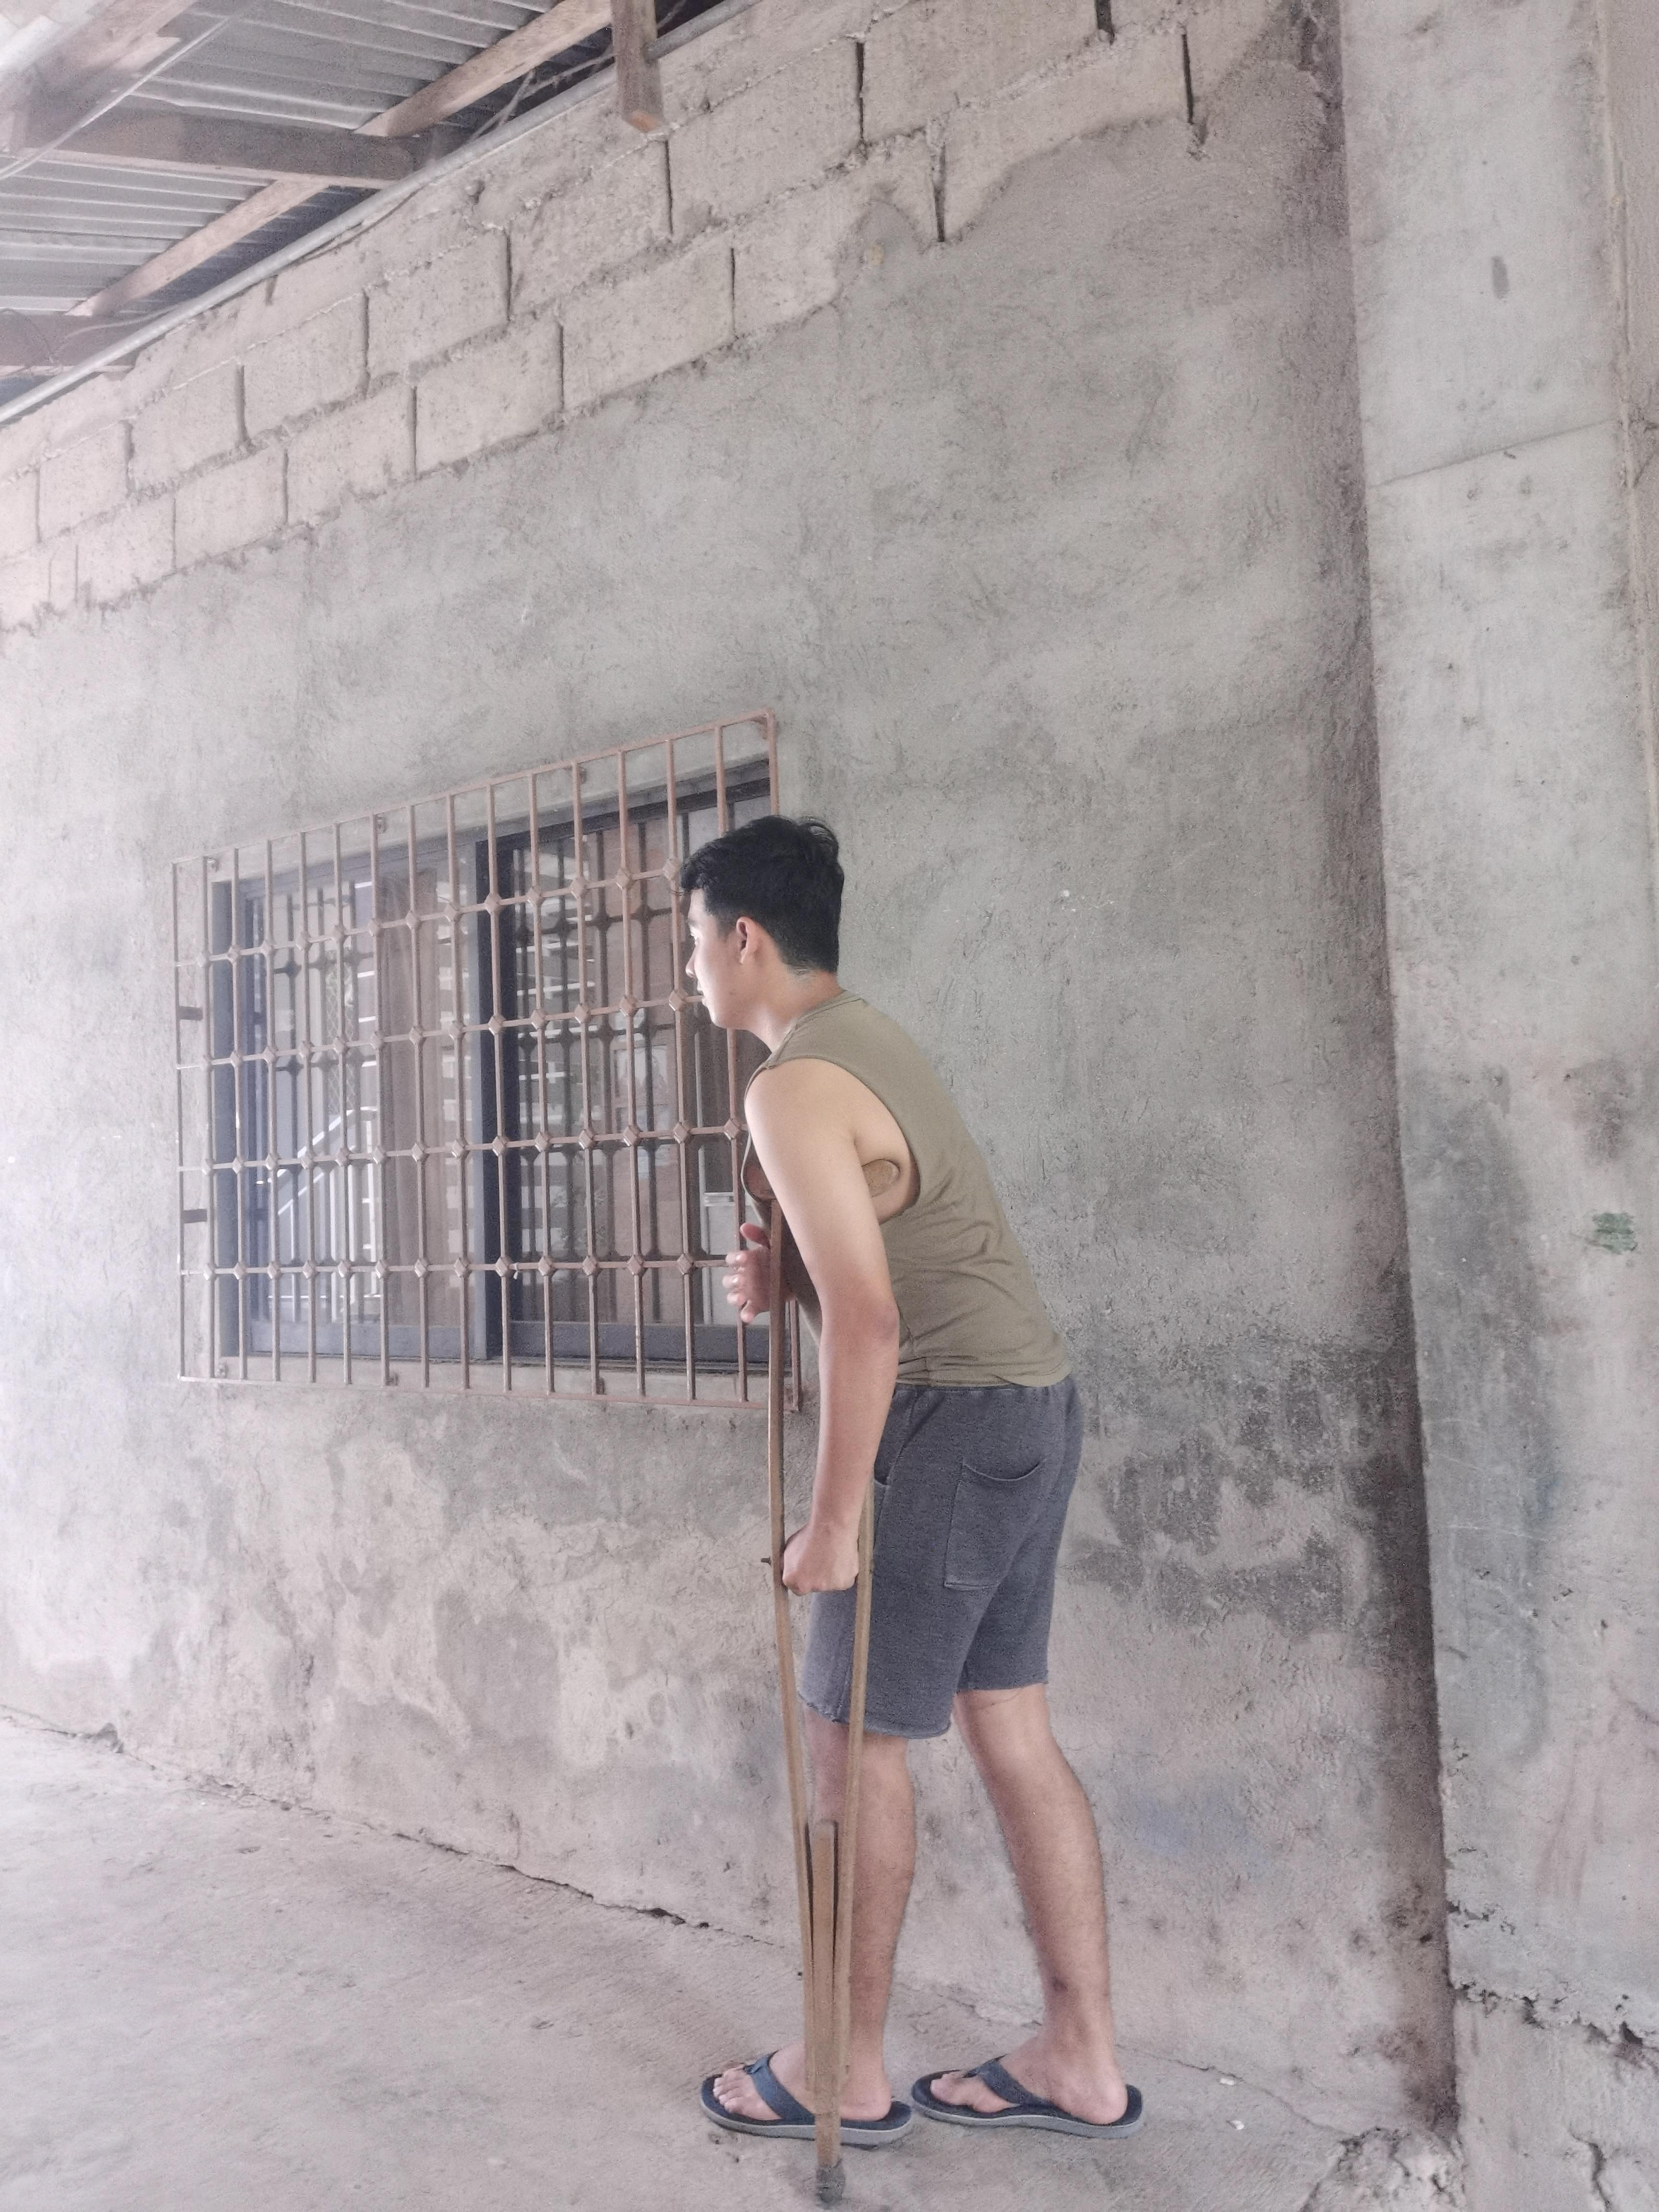crutches: (667, 798, 1159, 2212)
